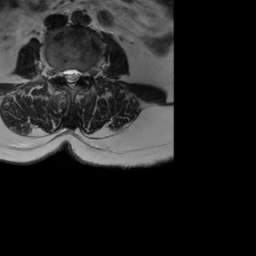CCS_normal: (67, 61, 74, 92)
LFS_stenosis: (80, 63, 87, 82)
LLS_normal: (74, 62, 80, 86)
RFS_normal: (54, 61, 61, 82)
RLS_normal: (61, 63, 67, 84)
